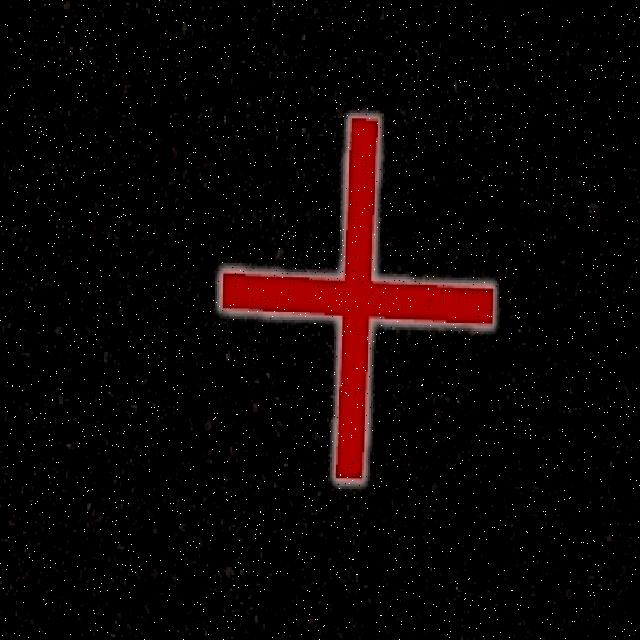x_marker: (216, 114, 494, 482)
